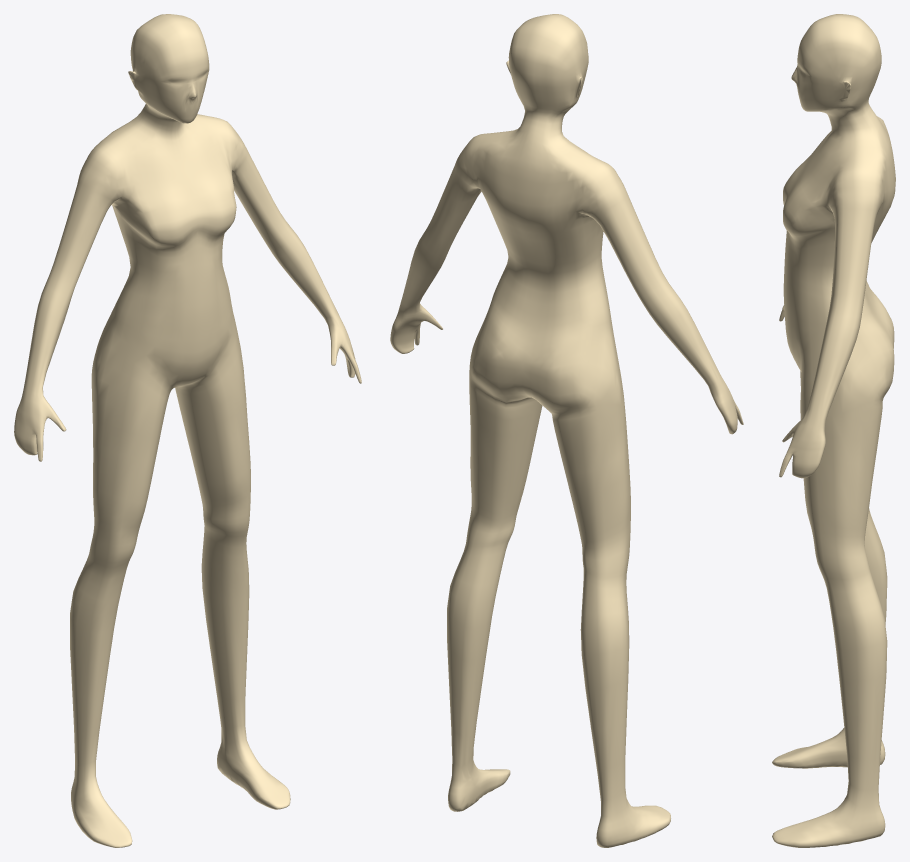
File: body-female.glb
3 renders of one model, left to right at view 1: azimuth 30°, elevation 25°; view 2: azimuth 150°, elevation 25°; view 3: azimuth 270°, elevation 25°, orthographic.
Parts seen in each view (by area): view 1: Body; view 2: Body; view 3: Body.
Part boxes in pixels (left/top/right/bottom): Body: left=14, top=14, right=361, bottom=847; Body: left=390, top=14, right=743, bottom=847; Body: left=772, top=14, right=895, bottom=847.
Size of the model in its own units: 1.47 by 3.3 by 0.4718.
